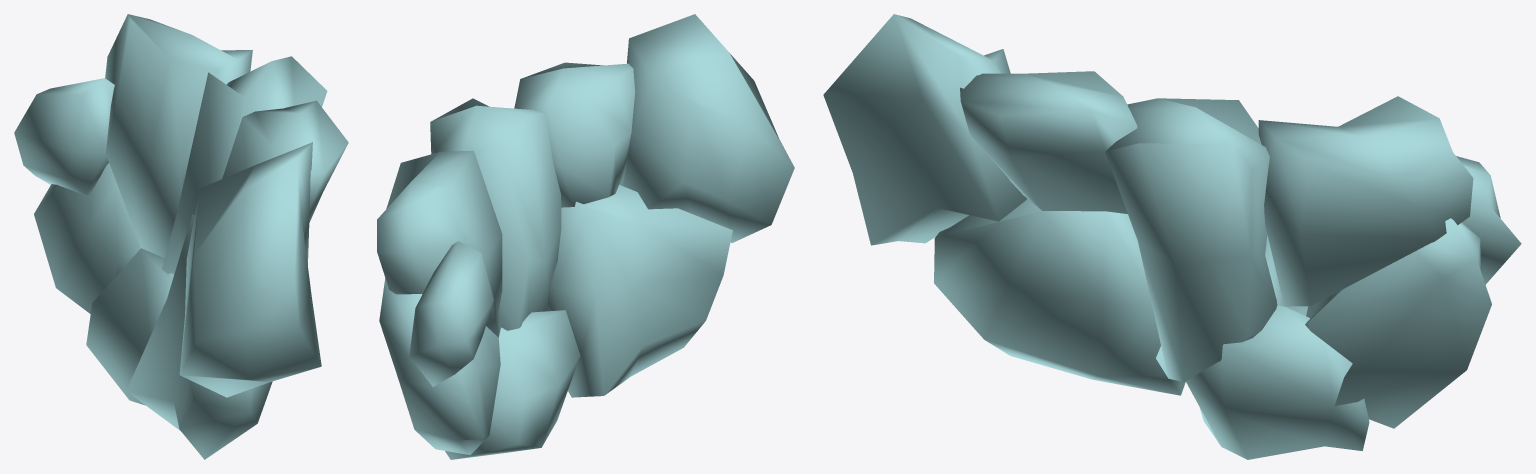
Rendered from Skelly_hand.R.fbx.
3 renders of one model, left to right at view 1: azimuth 30°, elevation 25°; view 2: azimuth 150°, elevation 25°; view 3: azimuth 270°, elevation 25°, orthographic. The views are drawn at different scales.
Parts seen in each view (by area): view 1: Skelly_hand.R; view 2: Skelly_hand.R; view 3: Skelly_hand.R.
Boxes of the visible parts, left/top/right/bottom form: Skelly_hand.R: left=14, top=14, right=348, bottom=459; Skelly_hand.R: left=377, top=14, right=794, bottom=459; Skelly_hand.R: left=823, top=14, right=1521, bottom=459.
Size of the model in its own units: 3.46 by 4.84 by 7.47.
